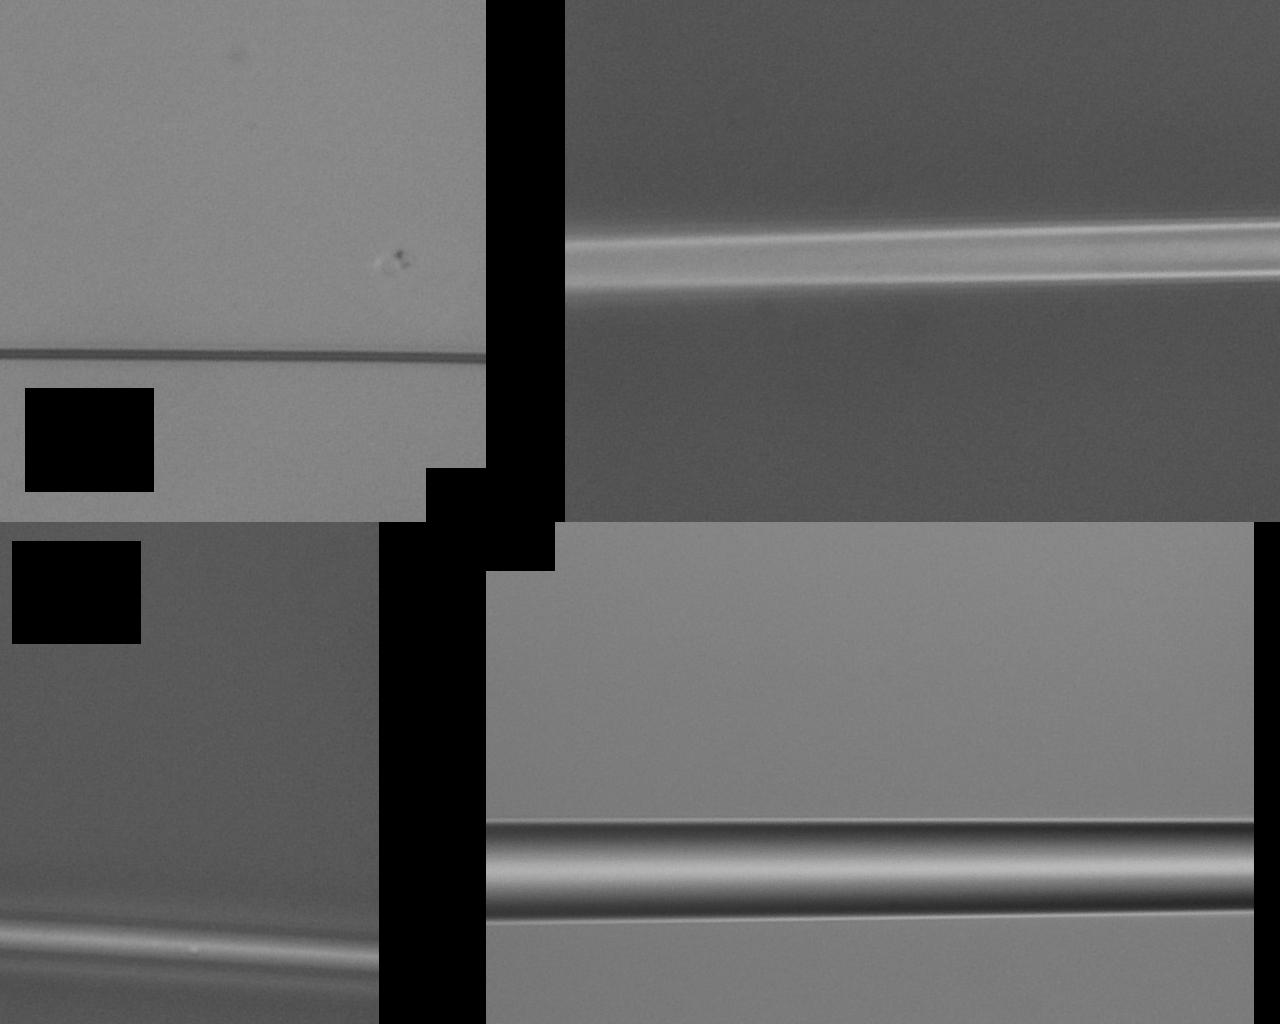fiber: (486, 819, 1254, 923), (564, 218, 1280, 293), (0, 908, 379, 982), (0, 350, 486, 369)
